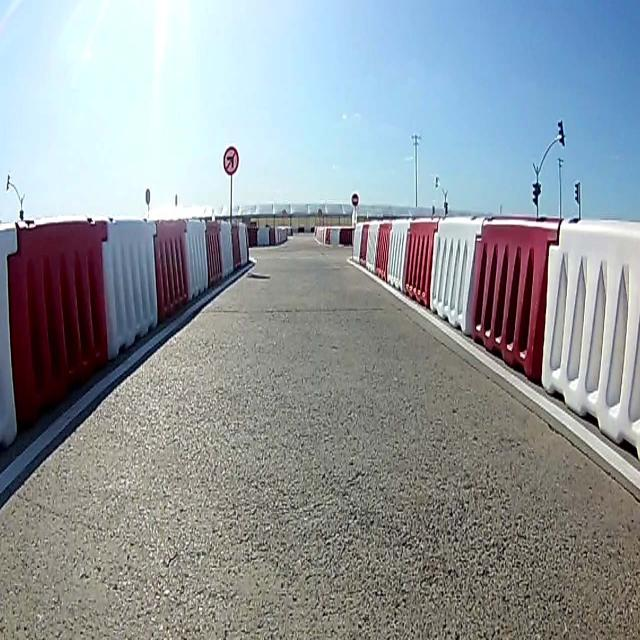girisyok: (352, 191, 358, 207)
soladonulmez: (222, 145, 239, 174)
